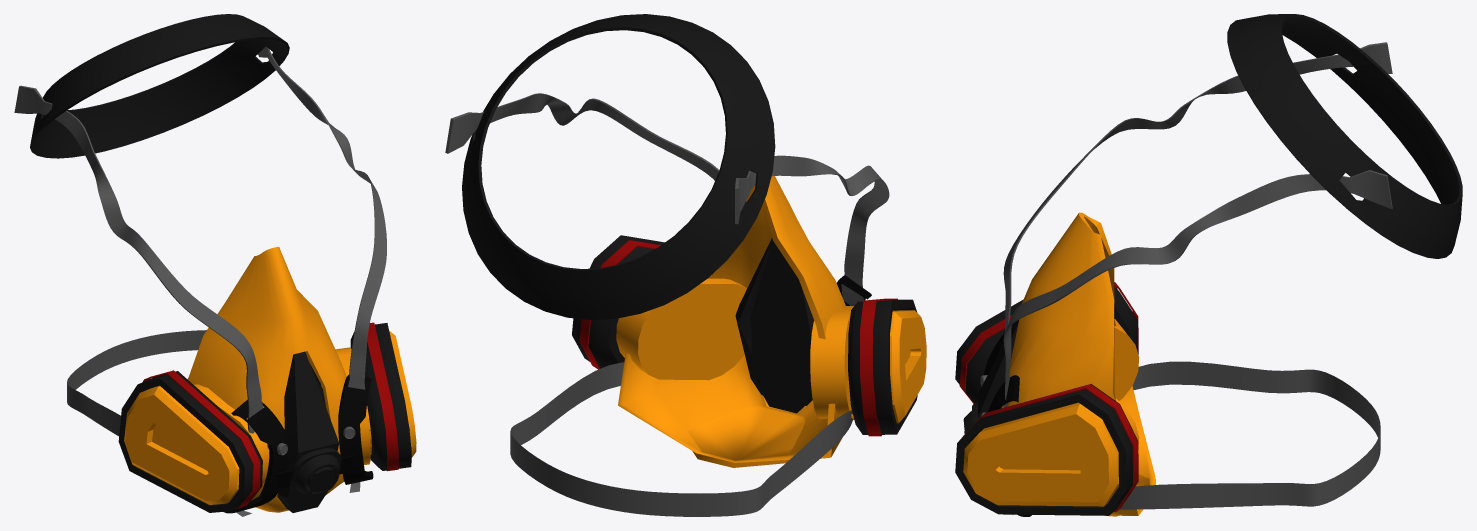
File: respirator.fbx
The picture shows the model from 3 angles, left to right: view 1: azimuth 30°, elevation 25°; view 2: azimuth 150°, elevation 25°; view 3: azimuth 270°, elevation 25°; orthographic projection. The views are drawn at different scales.
Visible parts, largest first — view 1: Sphere001, Box001, Cylinder005, Box005, Box002, Cylinder004, Box008, Plane001, Cylinder007, Box006, Box003, Cylinder001 (+5 smaller); view 2: Sphere001, Box001, Plane001, Cylinder003, Box002, Box005, Cylinder004, Box008, Cylinder002, Cylinder005, Cylinder007, Cylinder006 (+1 smaller); view 3: Sphere001, Box001, Cylinder008, Plane001, Box008, Cylinder007, Box005, Cylinder004, Cylinder002, Cylinder009, Box002, Cylinder006 (+1 smaller).
Boxes of the visible parts, x1,y1,x2,y2 form: Sphere001: [30, 14, 289, 158]; Box001: [187, 247, 346, 512]; Cylinder005: [124, 385, 239, 504]; Box005: [14, 85, 263, 433]; Box002: [277, 351, 338, 512]; Cylinder004: [118, 371, 262, 512]; Box008: [258, 46, 386, 389]; Plane001: [67, 330, 360, 516]; Cylinder007: [350, 323, 411, 470]; Box006: [338, 374, 373, 484]; Box003: [223, 400, 288, 513]; Cylinder001: [289, 448, 341, 495]; Sphere001: [462, 14, 775, 320]; Box001: [618, 170, 845, 467]; Plane001: [510, 362, 853, 516]; Cylinder003: [616, 278, 746, 380]; Box002: [735, 237, 814, 413]; Box005: [735, 155, 889, 305]; Cylinder004: [848, 299, 917, 434]; Box008: [445, 93, 719, 180]; Cylinder002: [810, 306, 853, 418]; Cylinder005: [890, 310, 926, 423]; Cylinder007: [572, 235, 664, 368]; Cylinder006: [860, 298, 897, 436]; Sphere001: [1227, 14, 1462, 258]; Box001: [1002, 212, 1155, 516]; Cylinder008: [963, 402, 1118, 506]; Plane001: [1119, 361, 1380, 509]; Box008: [1003, 170, 1392, 407]; Cylinder007: [955, 384, 1137, 515]; Box005: [1003, 42, 1392, 331]; Cylinder004: [955, 287, 1138, 403]; Cylinder002: [1114, 319, 1139, 400]; Cylinder009: [962, 384, 1138, 511]; Box002: [978, 320, 1018, 418]; Cylinder006: [959, 282, 1138, 403].
Bounding box in the file's own units: 387 × 555 × 551.
